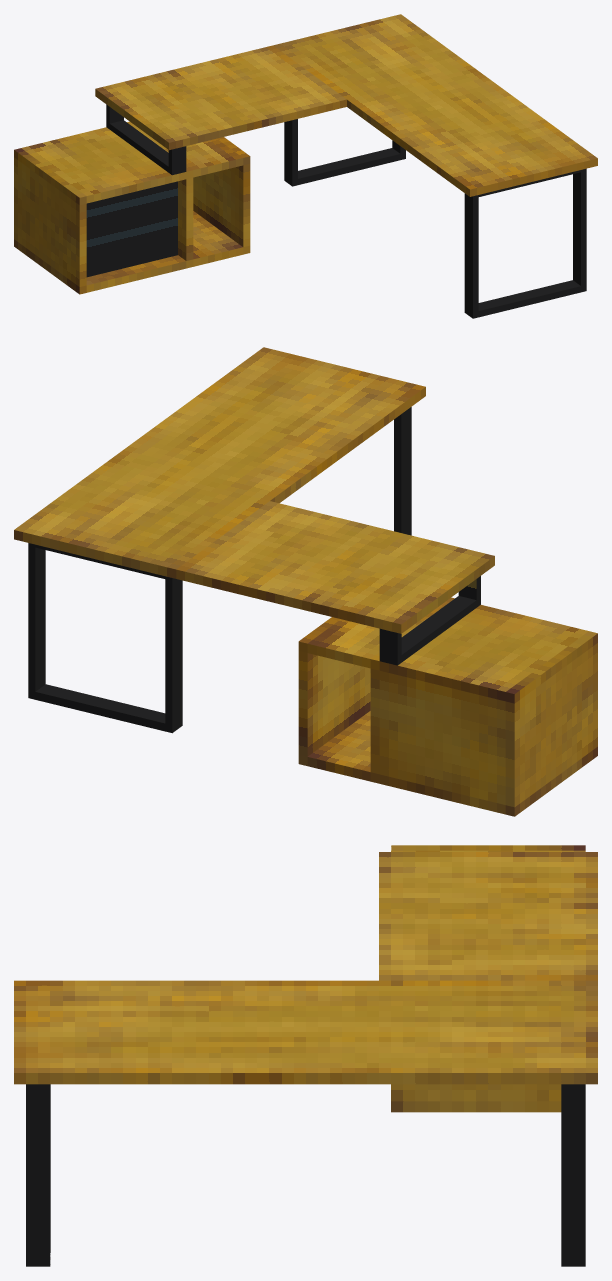
The model's file is desk.glb.
3 renders of one model, top to bottom at view 1: azimuth 30°, elevation 25°; view 2: azimuth 150°, elevation 25°; view 3: azimuth 270°, elevation 25°, orthographic. The views are drawn at different scales.
Visible parts, largest first — view 1: top long, cube, top, cuboid (×3), cube_selection; view 2: cube, top long, top, cuboid (×3); view 3: top long, top, cuboid (×2), cube.
Boxes of the visible parts, bbox=[...] form: top long: bbox=[273, 14, 597, 196]; cube: bbox=[14, 121, 250, 294]; top: bbox=[95, 45, 346, 150]; cuboid (×3): bbox=[106, 104, 586, 318]; cube_selection: bbox=[86, 181, 177, 277]; cube: bbox=[298, 597, 597, 816]; top long: bbox=[14, 347, 425, 578]; top: bbox=[176, 501, 494, 633]; cuboid (×3): bbox=[28, 407, 480, 733]; top long: bbox=[14, 980, 597, 1084]; top: bbox=[379, 852, 597, 980]; cuboid (×2): bbox=[26, 1084, 585, 1266]; cube: bbox=[391, 845, 585, 1112].
Bounding box in the file's own units: 3.44 × 1.12 × 3.
Materials: 1 (1 with a texture image).
